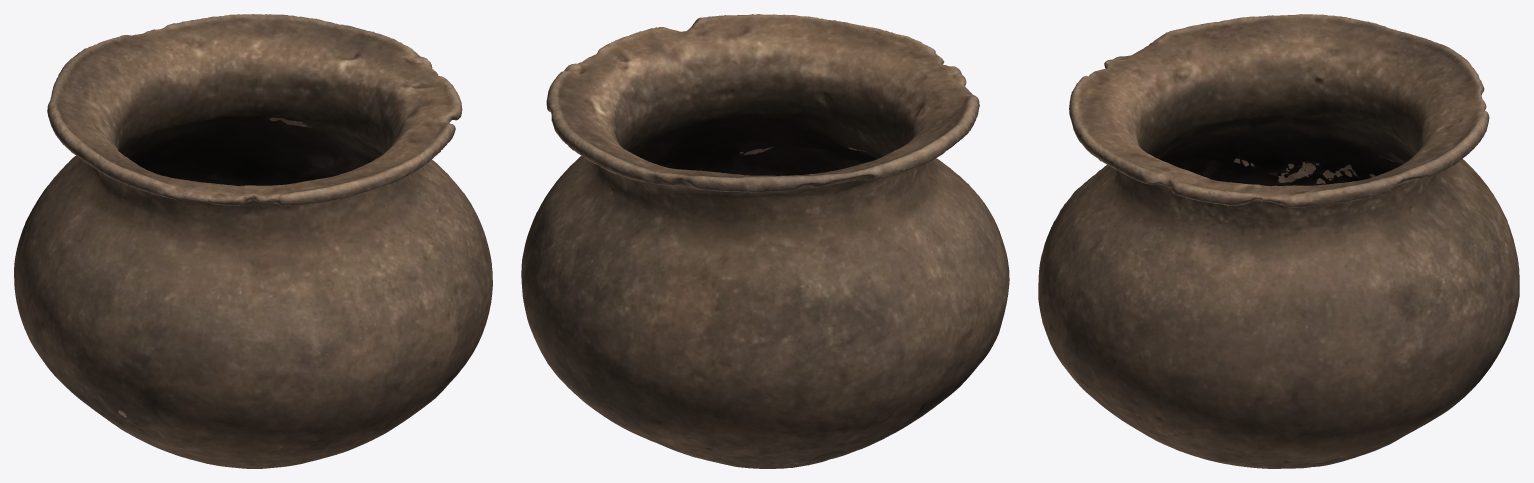
Rendered from RB-PFC.glb.
3 renders of one model, left to right at view 1: azimuth 30°, elevation 25°; view 2: azimuth 150°, elevation 25°; view 3: azimuth 270°, elevation 25°, orthographic. The views are drawn at different scales.
Parts seen in each view (by area): view 1: world; view 2: world; view 3: world.
Boxes of the visible parts, bbox=[...] form: world: bbox=[14, 14, 492, 468]; world: bbox=[521, 14, 1009, 468]; world: bbox=[1038, 14, 1519, 468].
Size of the model in its own units: 1 by 0.8059 by 0.9993.
Materials: 1 (1 with a texture image).
